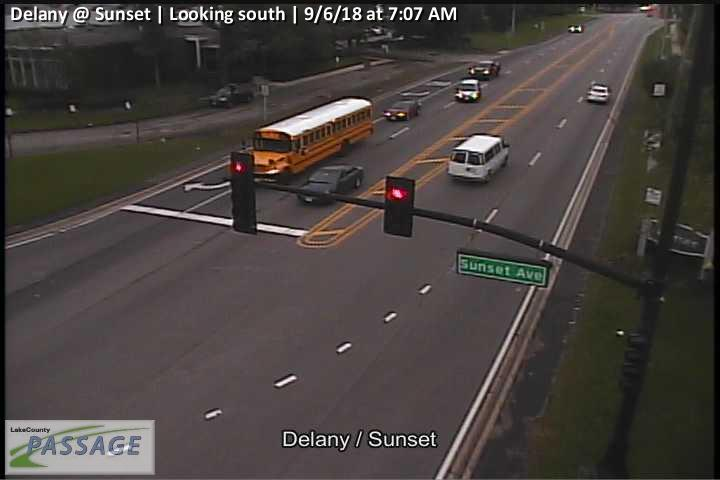SUV: (455, 77, 482, 104)
Sedan: (296, 164, 366, 205), (207, 80, 257, 110), (383, 96, 422, 122), (470, 59, 504, 81), (586, 81, 611, 104), (567, 23, 584, 32)
Truck: (239, 95, 378, 185), (446, 132, 511, 186)
